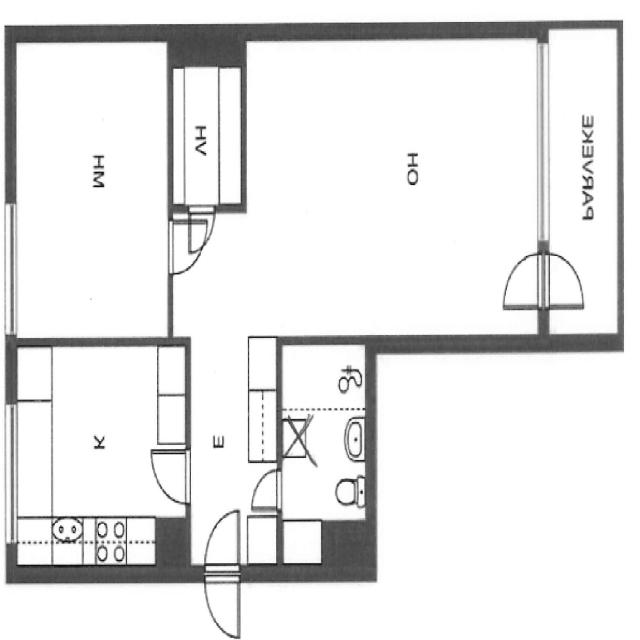door: (199, 504, 245, 639), (498, 248, 581, 310), (148, 441, 194, 506), (247, 464, 285, 516), (185, 206, 215, 265)
window: (530, 38, 556, 252), (0, 191, 23, 343), (2, 397, 20, 554)
zone: (252, 33, 539, 340), (11, 34, 173, 341), (5, 339, 189, 565), (546, 28, 618, 327), (280, 339, 370, 566), (168, 47, 244, 211), (508, 248, 590, 312)
